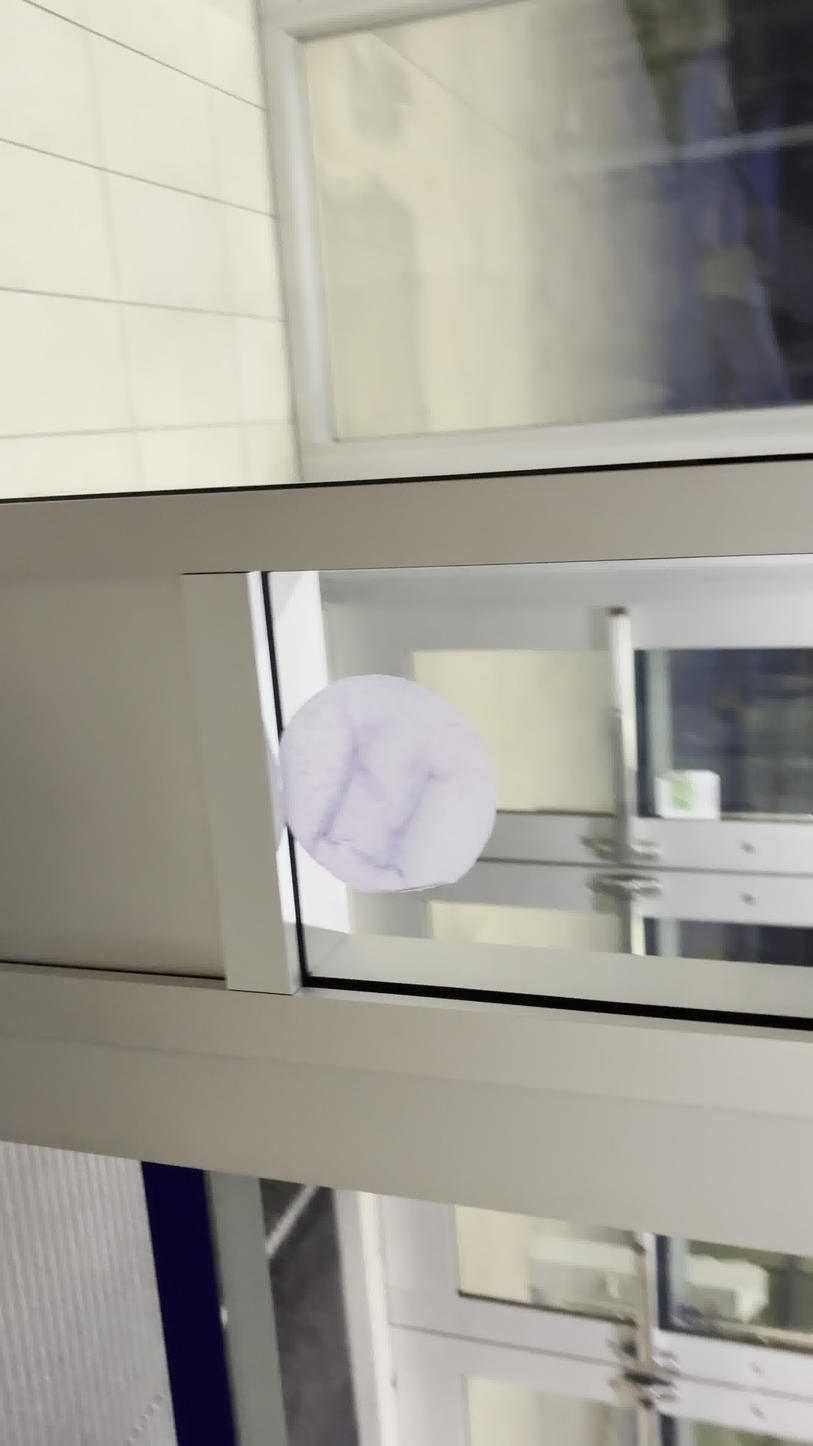Target: (261, 681, 496, 892)
